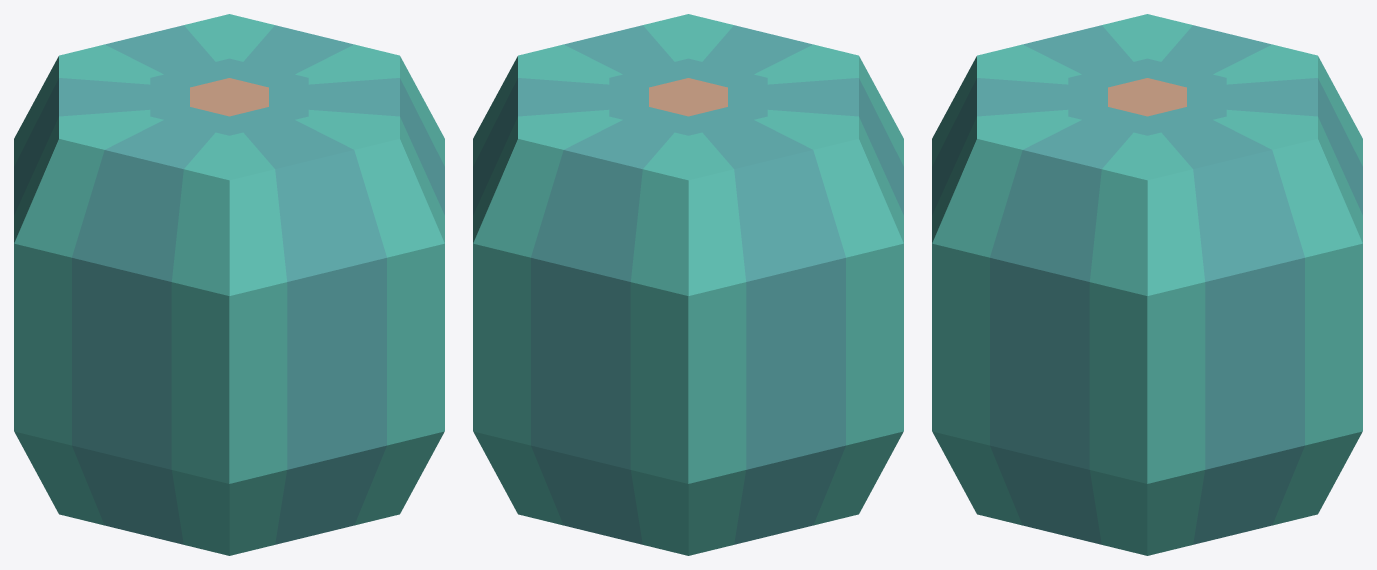
Rendered from crop_melon.glb.
3 renders of one model, left to right at view 1: azimuth 30°, elevation 25°; view 2: azimuth 150°, elevation 25°; view 3: azimuth 270°, elevation 25°, orthographic.
Visible parts, largest first — view 1: crop_melon; view 2: crop_melon; view 3: crop_melon.
Boxes of the visible parts, x1,y1,x2,y2 form: crop_melon: (14, 14, 444, 555); crop_melon: (473, 14, 903, 555); crop_melon: (932, 14, 1362, 555).
Size of the model in its own units: 0.4176 by 0.348 by 0.3617.
